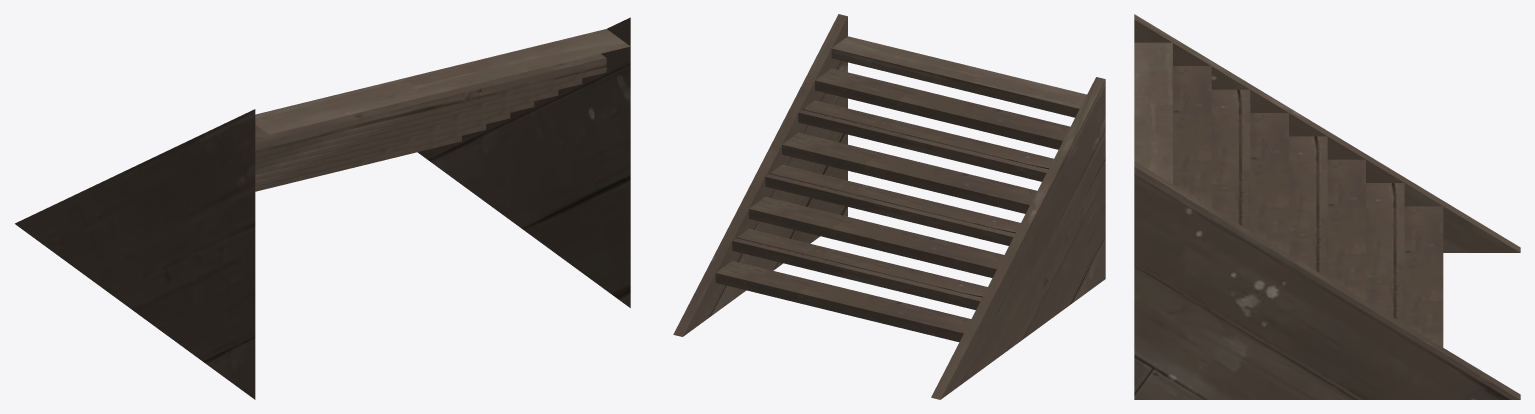
The picture shows the model from 3 angles, left to right: view 1: azimuth 30°, elevation 25°; view 2: azimuth 150°, elevation 25°; view 3: azimuth 270°, elevation 25°; orthographic projection. The views are drawn at different scales.
Visible parts, largest first — view 1: body0_model0_lod0_mesh0; view 2: body0_model0_lod0_mesh0; view 3: body0_model0_lod0_mesh0.
Boxes of the visible parts, left/top/right/bottom form: body0_model0_lod0_mesh0: left=15, top=17, right=630, bottom=399; body0_model0_lod0_mesh0: left=673, top=14, right=1105, bottom=399; body0_model0_lod0_mesh0: left=1134, top=14, right=1520, bottom=399.
Size of the model in its own units: 112 by 80 by 120.
Materials: 1 (1 with a texture image).
